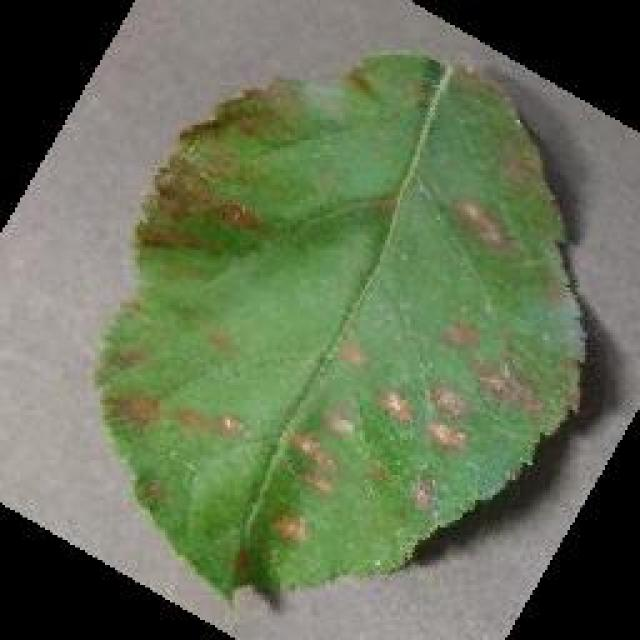apple rust disease: (92, 48, 590, 610)
